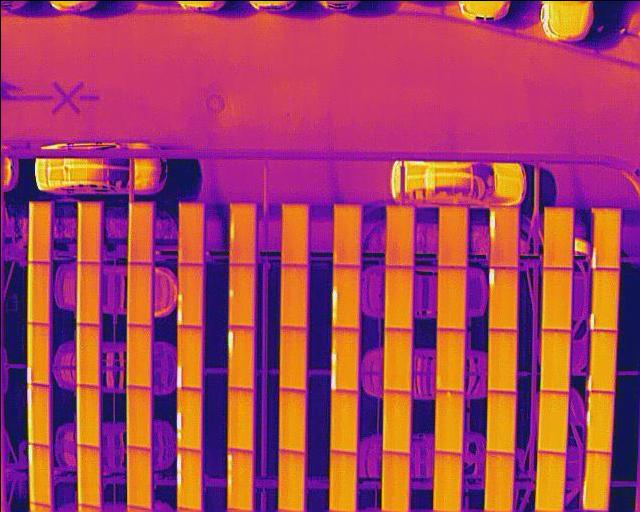Cell: (228, 263, 253, 326)
No-Anomaly: (534, 450, 564, 512), (539, 329, 569, 391), (542, 206, 572, 267), (537, 390, 567, 451), (542, 267, 571, 330), (437, 203, 466, 265), (485, 390, 514, 452), (484, 452, 513, 512), (383, 266, 411, 328), (384, 204, 412, 266), (279, 202, 307, 264), (432, 451, 460, 512), (380, 451, 408, 512), (434, 390, 462, 451), (487, 329, 515, 390), (436, 265, 463, 328), (332, 202, 359, 265), (329, 389, 356, 452), (383, 328, 410, 391), (279, 264, 306, 326), (328, 450, 355, 512), (436, 328, 463, 390), (381, 391, 408, 452), (278, 450, 304, 512), (278, 388, 304, 450), (279, 327, 305, 388), (226, 387, 251, 450), (178, 201, 203, 263), (75, 444, 99, 508), (76, 201, 101, 262), (126, 446, 150, 509), (126, 385, 150, 448), (126, 323, 149, 388), (76, 261, 100, 323), (25, 260, 49, 322), (127, 201, 151, 263), (126, 263, 149, 325), (75, 384, 98, 446), (75, 323, 98, 385), (27, 200, 50, 260)
Unclassified: (587, 329, 616, 391), (487, 267, 516, 329), (589, 268, 617, 331), (591, 206, 619, 268), (488, 205, 516, 267), (582, 451, 610, 512), (330, 327, 357, 390), (331, 265, 358, 327), (585, 390, 612, 452), (225, 325, 252, 387), (176, 263, 203, 324), (228, 202, 255, 263), (175, 447, 201, 510), (175, 387, 201, 450), (175, 324, 201, 386), (225, 447, 250, 511), (25, 381, 50, 445), (27, 442, 50, 507), (25, 321, 48, 383)
